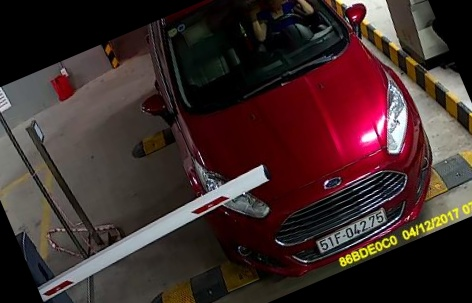plate: (313, 202, 391, 259)
